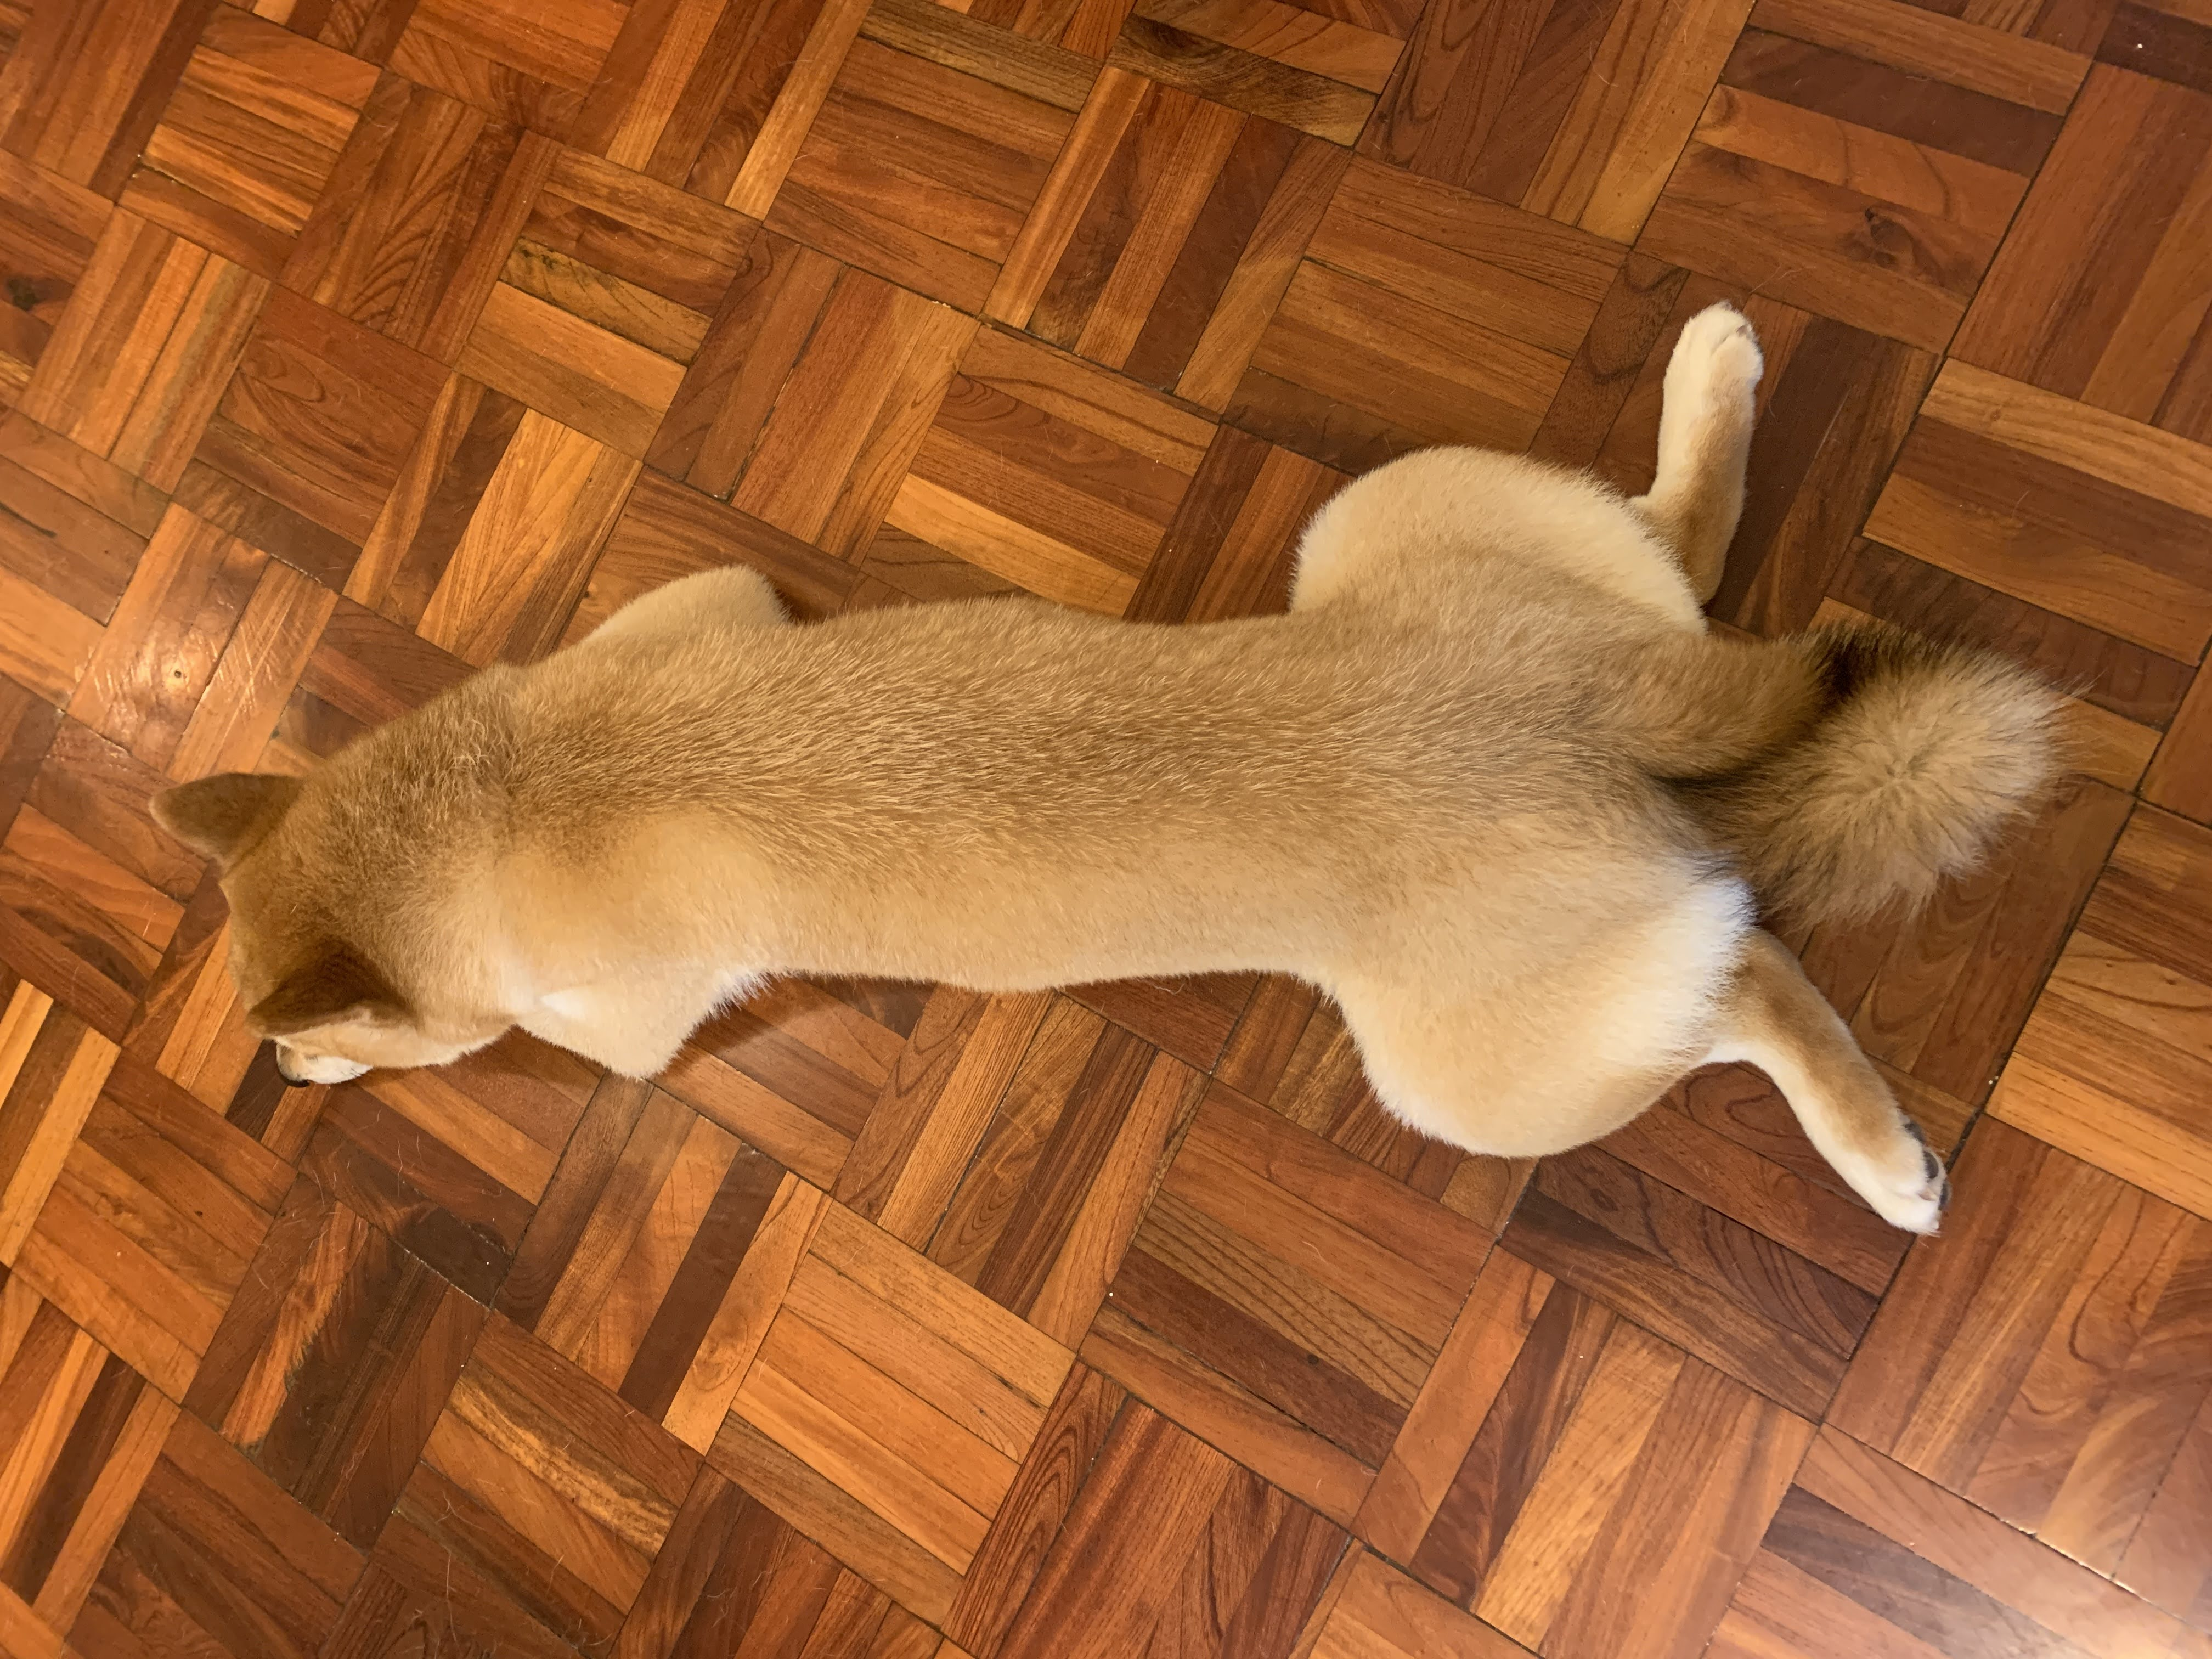Lie down: (78, 465, 2073, 1384)
